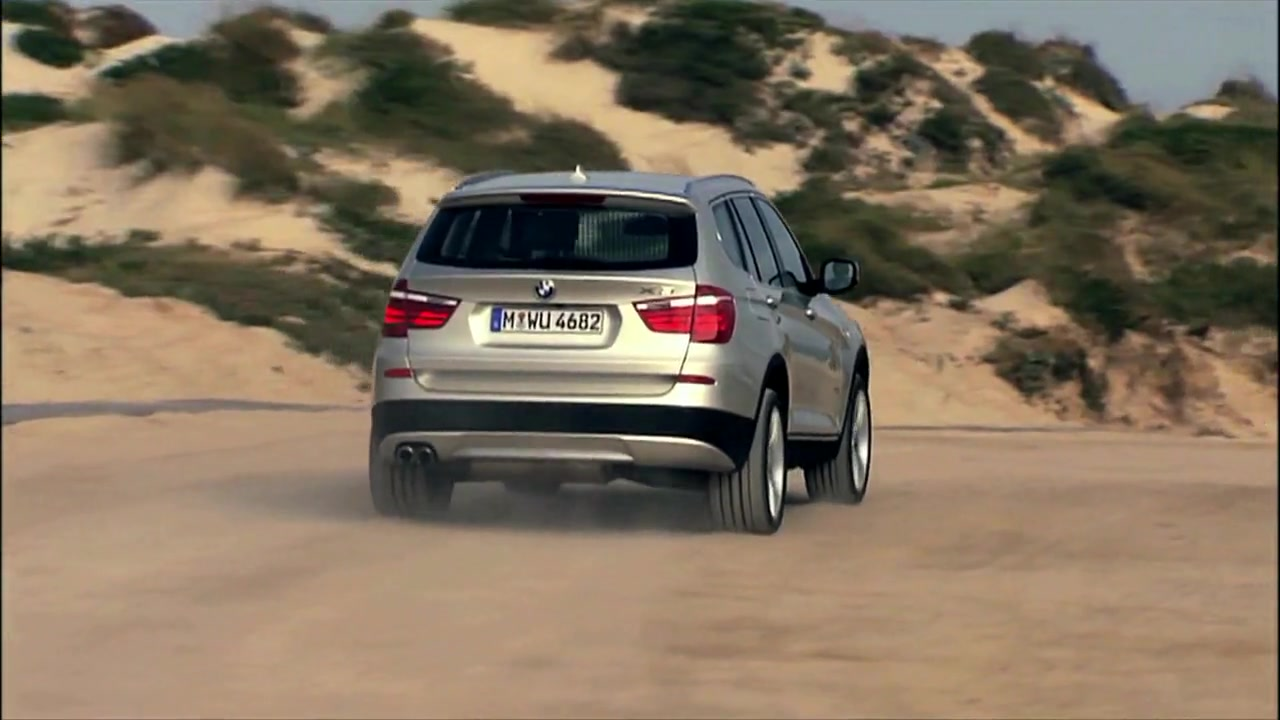car: (365, 163, 876, 539)
